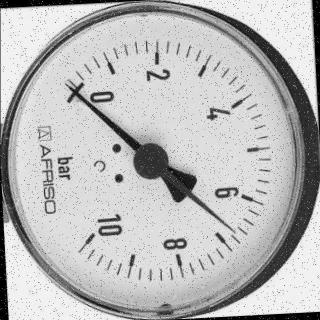gauge: (0, 0, 320, 320), (132, 142, 170, 181), (71, 225, 102, 260), (60, 75, 88, 108), (61, 79, 81, 100), (227, 224, 240, 237)
